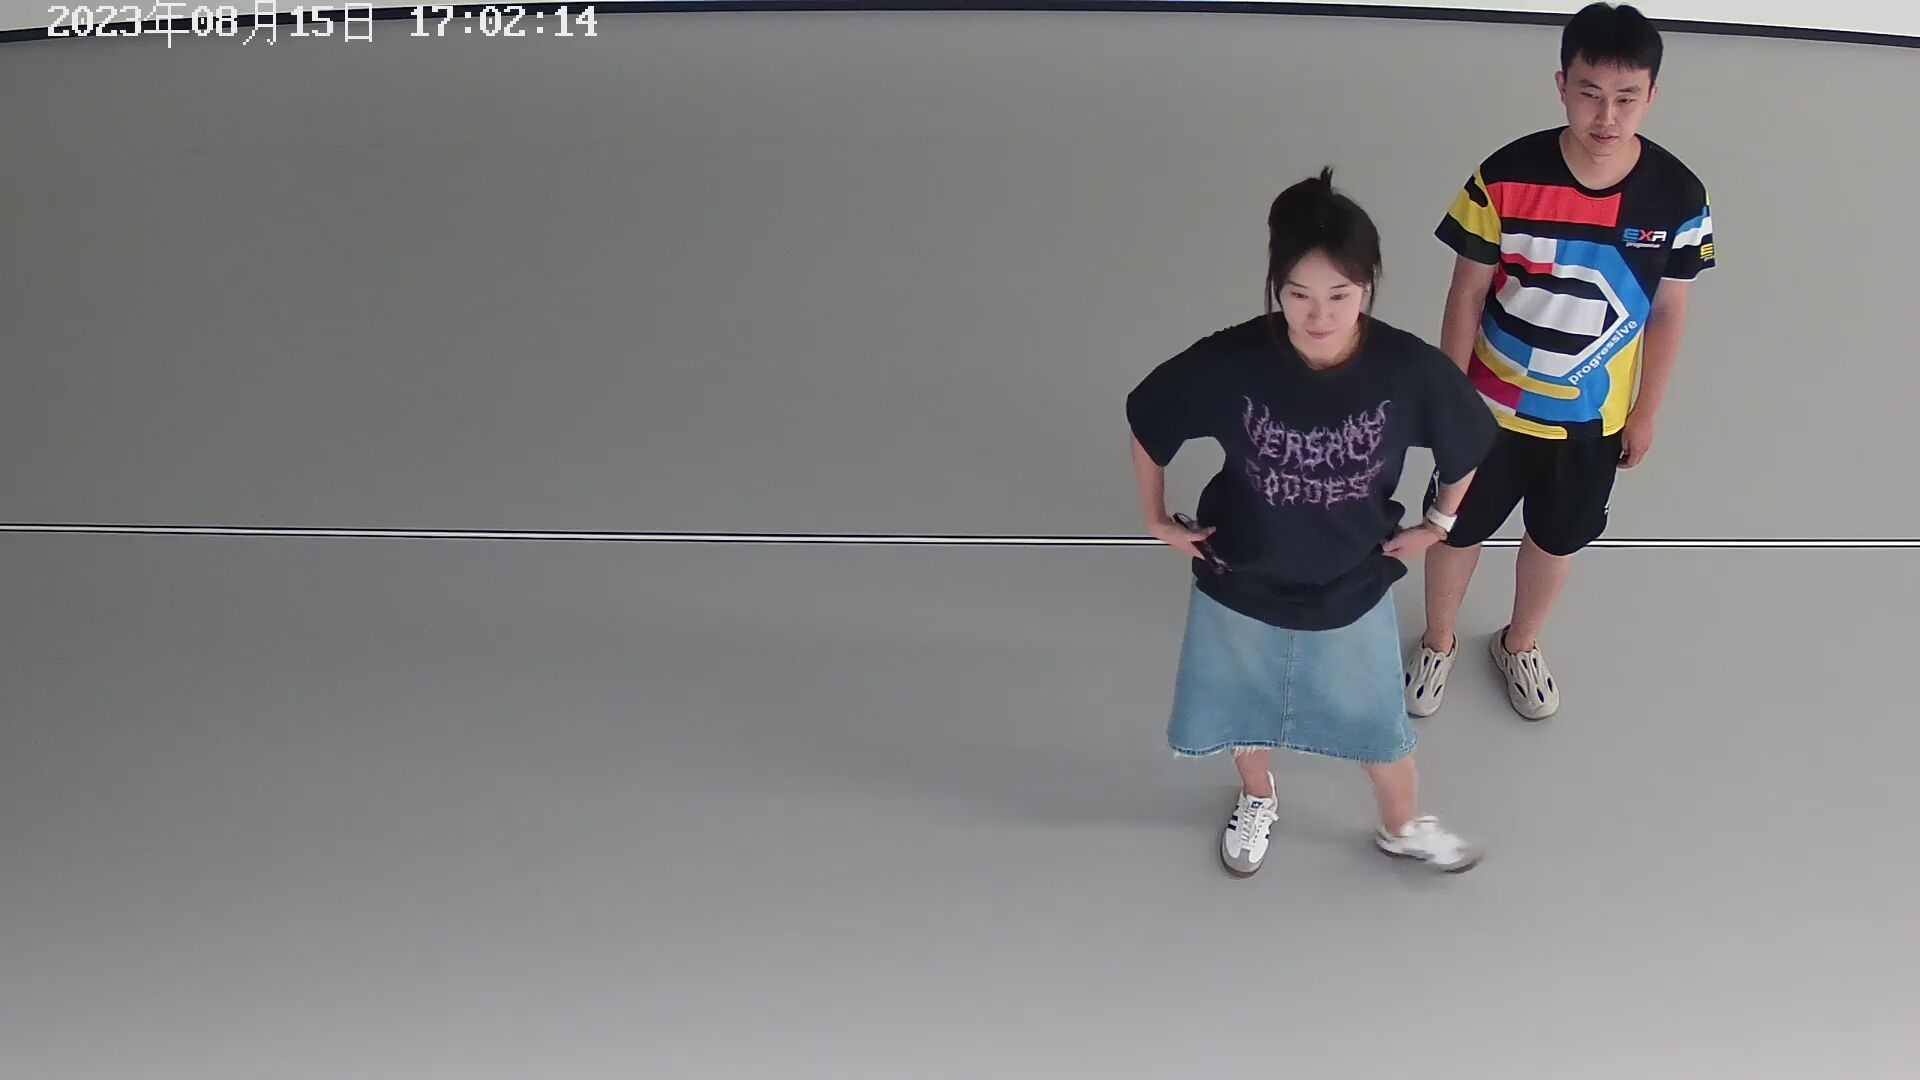normal: (1081, 1, 1749, 916), (1098, 127, 1535, 931), (1365, 1, 1720, 741)
